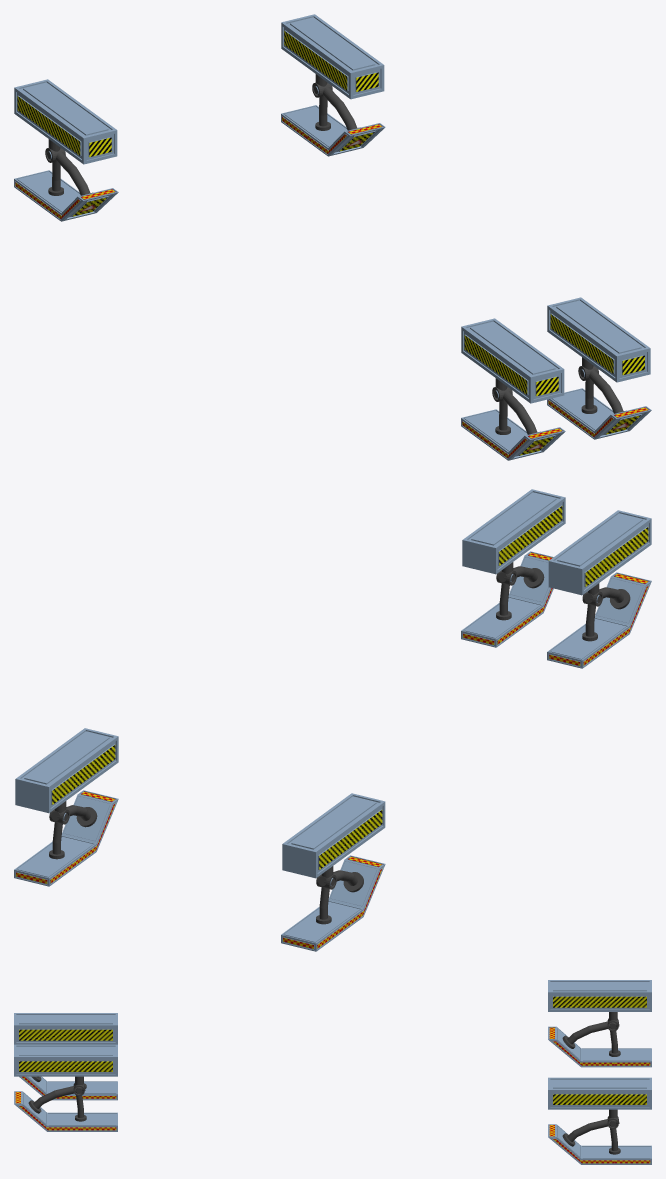
Rendered from landingskids.obj.
The picture shows the model from 3 angles, top to bottom: view 1: azimuth 30°, elevation 25°; view 2: azimuth 150°, elevation 25°; view 3: azimuth 270°, elevation 25°; orthographic projection. The views are drawn at different scales.
Visible parts, largest first — view 1: landingskid.003_Mesh.005, landingskid.002_Mesh.004, landingskid.001_Mesh.002, landingskid_Mesh.001; view 2: landingskid.002_Mesh.004, landingskid.003_Mesh.005, landingskid.001_Mesh.002, landingskid_Mesh.001; view 3: landingskid_Mesh.001, landingskid.002_Mesh.004, landingskid.003_Mesh.005, landingskid.001_Mesh.002.
Part boxes in pixels (left/top/right/bottom): landingskid.003_Mesh.005: left=14, top=79, right=118, bottom=221; landingskid.002_Mesh.004: left=281, top=14, right=385, bottom=156; landingskid.001_Mesh.002: left=461, top=318, right=565, bottom=460; landingskid_Mesh.001: left=547, top=297, right=651, bottom=439; landingskid.002_Mesh.004: left=14, top=728, right=118, bottom=886; landingskid.003_Mesh.005: left=281, top=793, right=385, bottom=951; landingskid.001_Mesh.002: left=547, top=510, right=651, bottom=668; landingskid_Mesh.001: left=461, top=489, right=565, bottom=647; landingskid_Mesh.001: left=14, top=1044, right=117, bottom=1131; landingskid.002_Mesh.004: left=548, top=1077, right=651, bottom=1164; landingskid.003_Mesh.005: left=548, top=980, right=651, bottom=1067; landingskid.001_Mesh.002: left=14, top=1013, right=117, bottom=1100.
Size of the model in its own units: 2.63 by 0.8281 by 6.42.
1 material, 1 textured.
